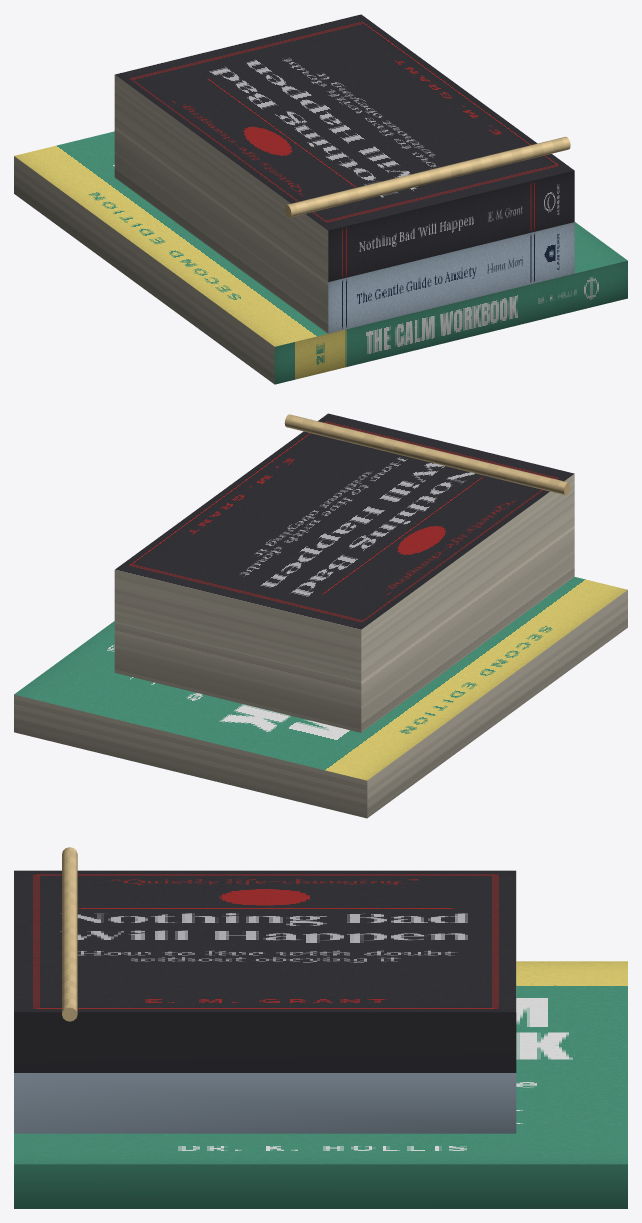
File: book_stack.glb
3 views of the same model, one above another, from view 1: azimuth 30°, elevation 25°; view 2: azimuth 150°, elevation 25°; view 3: azimuth 270°, elevation 25° (orthographic). The views are drawn at different scales.
Parts seen in each view (by area): view 1: panels, body; view 2: panels, body; view 3: panels, body.
Boxes of the visible parts, box(x1,y1,x2,y2) form: panels: box(14, 14, 627, 384); body: box(284, 136, 570, 217); panels: box(14, 413, 627, 818); body: box(284, 414, 570, 495); panels: box(14, 870, 627, 1208); body: box(62, 847, 77, 1021).
Size of what is drawn, in the model's own units: 0.215 by 0.089 by 0.275.
Materials: 2 (2 with a texture image).
